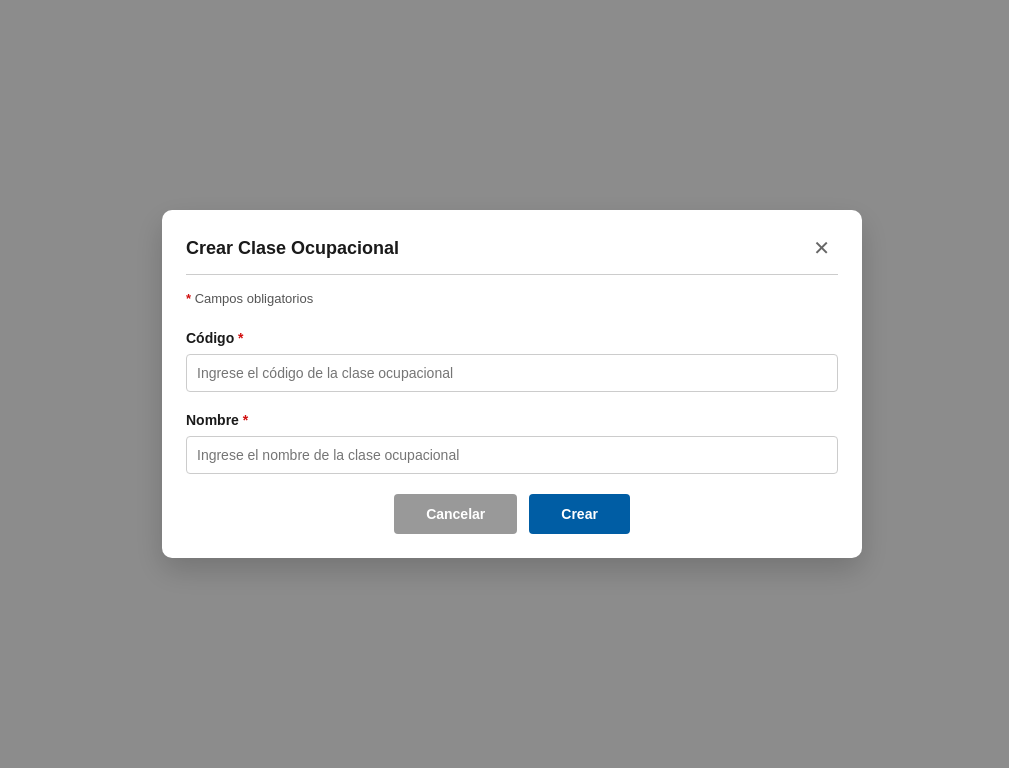
Test: CreateOccupationalClasses Modal › muestra error cuando el código no es un entero positivo
In the number field with placeholder "Ingrese el código de la clase ocupacional": [512, 373] box [186, 354, 838, 392], type "0"
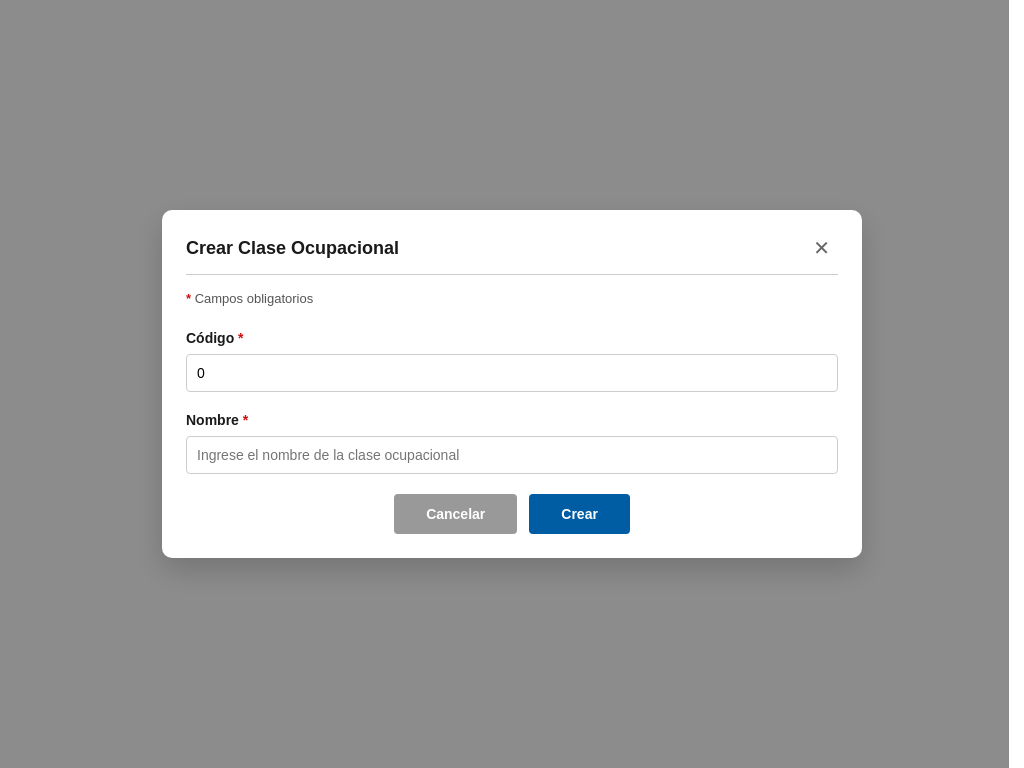
In the field with placeholder "Ingrese el nombre de la clase ocupacional": [512, 455] box [186, 436, 838, 474], type "Profesional 1"
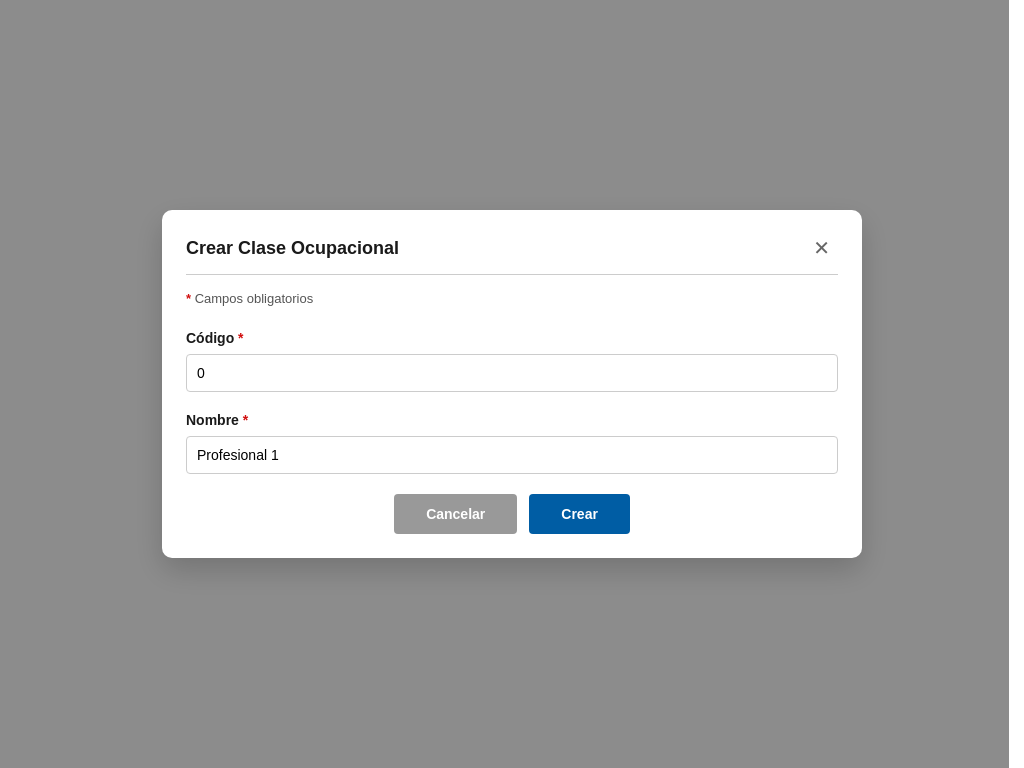
Submit the form, box [186, 291, 838, 534]
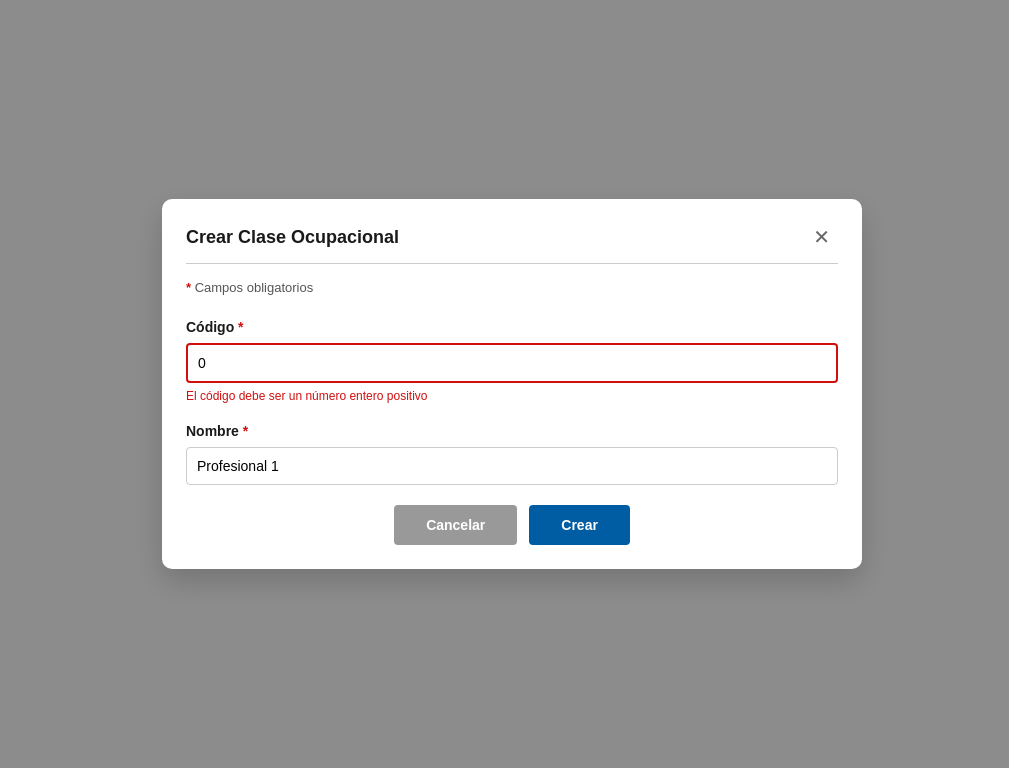
expect the text "El código debe ser un número entero positivo" is shown: met, box [186, 389, 428, 403]
